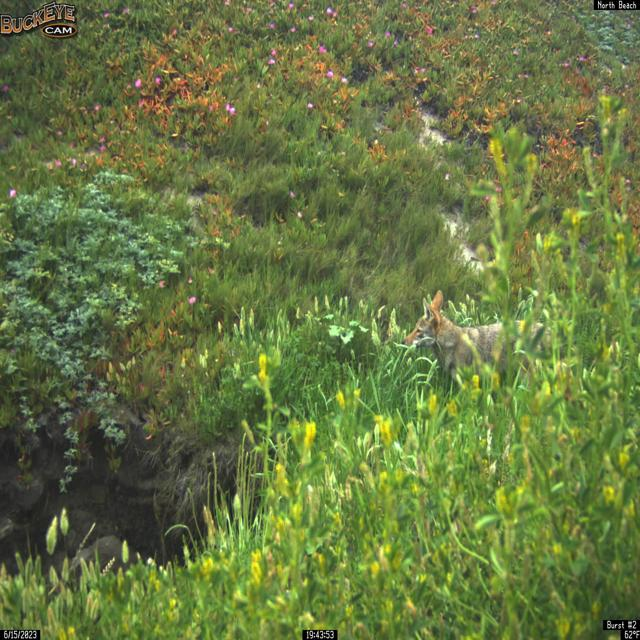coyote: (401, 289, 565, 402)
